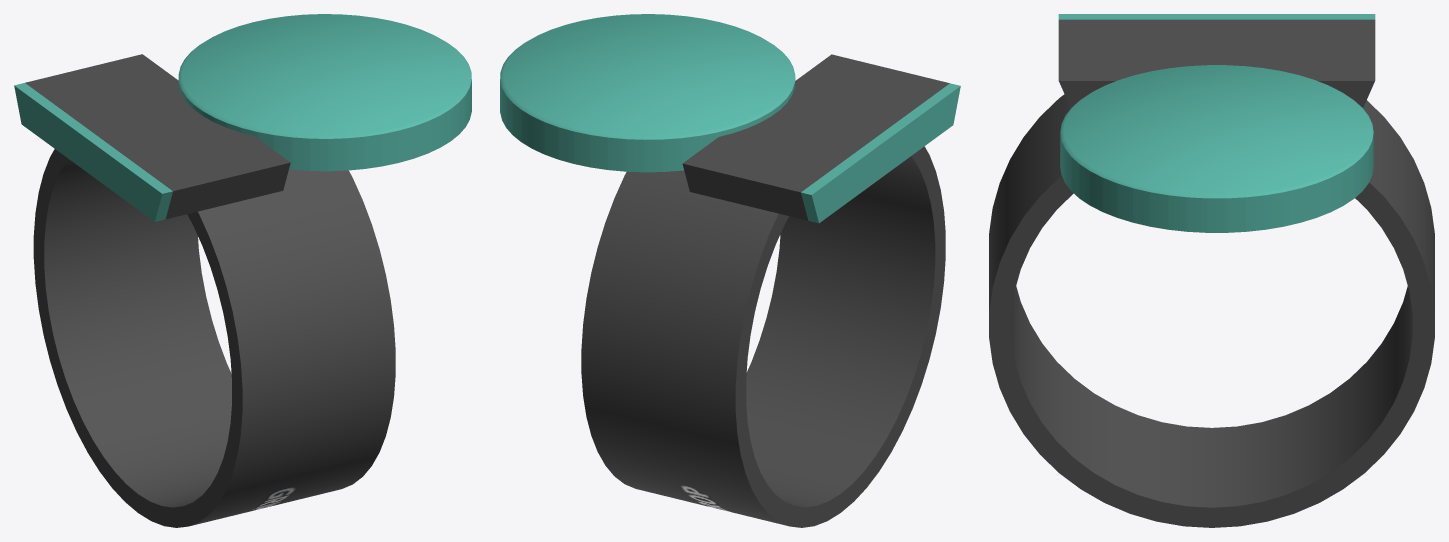
The model's file is tool-icon.fbx.
3 renders of one model, left to right at view 1: azimuth 30°, elevation 25°; view 2: azimuth 150°, elevation 25°; view 3: azimuth 270°, elevation 25°, orthographic. The views are drawn at different scales.
Parts seen in each view (by area): view 1: pasted__pPipe7, pasted__pCylinder7, pasted__pasted__pasted__Tool__Header__Embellishment5; view 2: pasted__pPipe7, pasted__pCylinder7, pasted__pasted__pasted__Tool__Header__Embellishment5; view 3: pasted__pPipe7, pasted__pCylinder7, pasted__pasted__pasted__Tool__Header__Embellishment5.
Boxes of the visible parts, bbox=[...] form: pasted__pPipe7: bbox=[33, 149, 395, 527]; pasted__pCylinder7: bbox=[178, 14, 471, 171]; pasted__pasted__pasted__Tool__Header__Embellishment5: bbox=[14, 54, 290, 221]; pasted__pPipe7: bbox=[581, 146, 945, 527]; pasted__pCylinder7: bbox=[500, 14, 795, 172]; pasted__pasted__pasted__Tool__Header__Embellishment5: bbox=[682, 54, 960, 223]; pasted__pPipe7: bbox=[989, 94, 1434, 527]; pasted__pCylinder7: bbox=[1060, 65, 1373, 232]; pasted__pasted__pasted__Tool__Header__Embellishment5: bbox=[1058, 14, 1375, 107].
Size of the model in its own units: 19.41 by 19.91 by 19.28.
Materials: 2 (1 with a texture image).
